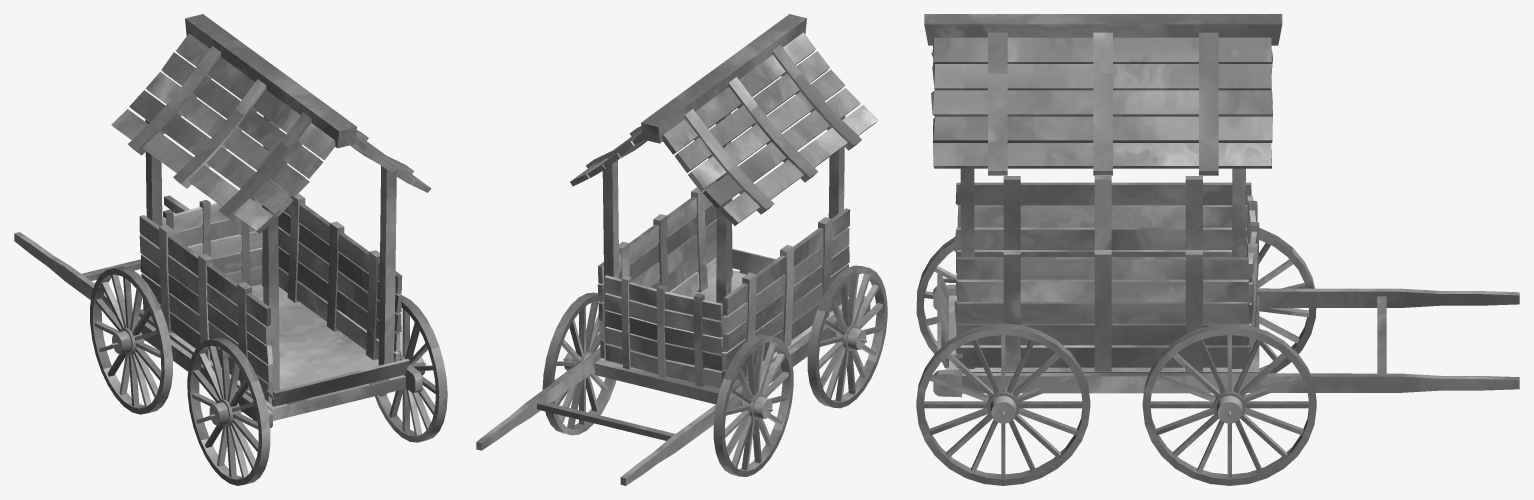
The model's file is SM_cart_01.fbx.
The picture shows the model from 3 angles, left to right: view 1: azimuth 30°, elevation 25°; view 2: azimuth 150°, elevation 25°; view 3: azimuth 270°, elevation 25°; orthographic projection. The views are drawn at different scales.
Parts seen in each view (by area): view 1: SM_cart_01; view 2: SM_cart_01; view 3: SM_cart_01.
Boxes of the visible parts, x1,y1,x2,y2 form: SM_cart_01: [14, 14, 447, 485]; SM_cart_01: [476, 14, 887, 485]; SM_cart_01: [916, 14, 1519, 485].
Bounding box in the file's own units: 206 × 428 × 323.
Materials: 1 (1 with a texture image).
